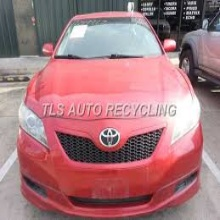no damage: (16, 11, 203, 218)
